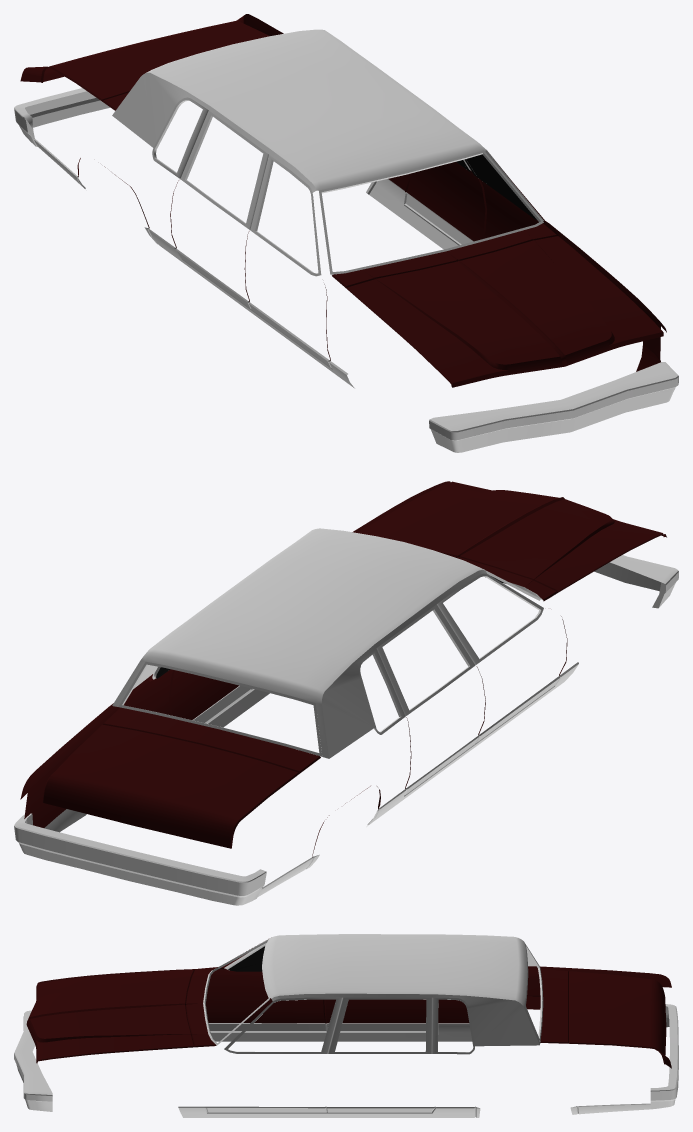
File: whiskey_statesman.fbx
The picture shows the model from 3 angles, top to bottom: view 1: azimuth 30°, elevation 25°; view 2: azimuth 150°, elevation 25°; view 3: azimuth 270°, elevation 25°; orthographic projection. The views are drawn at different scales.
Visible parts, largest first — view 1: Chrome, Hood_paintable, Trunk_paintable, RearDoors_paintable, Body_paintable, FrontDoors_paintable, FrontFenders_paintable, Windows, RearFenders_paintable; view 2: Chrome, Trunk_paintable, Hood_paintable, Body_paintable, RearFenders_paintable, RearDoors_paintable; view 3: Chrome, Hood_paintable, Trunk_paintable, FrontDoors_paintable, Body_paintable, RearDoors_paintable, RearFenders_paintable, Windows, FrontFenders_paintable.
Boxes of the visible parts, left/top/right/bottom form: Chrome: left=14, top=29, right=678, bottom=452; Hood_paintable: left=346, top=236, right=663, bottom=387; Trunk_paintable: left=42, top=20, right=269, bottom=100; RearDoors_paintable: left=170, top=162, right=485, bottom=247; Body_paintable: left=102, top=92, right=557, bottom=287; FrontDoors_paintable: left=244, top=178, right=554, bottom=301; FrontFenders_paintable: left=324, top=159, right=666, bottom=371; Windows: left=456, top=154, right=536, bottom=219; RearFenders_paintable: left=20, top=14, right=409, bottom=228; Chrome: left=14, top=528, right=678, bottom=905; Trunk_paintable: left=42, top=724, right=299, bottom=848; Hood_paintable: left=358, top=481, right=663, bottom=592; Body_paintable: left=103, top=554, right=557, bottom=773; RearFenders_paintable: left=20, top=669, right=411, bottom=856; RearDoors_paintable: left=171, top=666, right=485, bottom=734; Chrome: left=14, top=934, right=678, bottom=1117; Hood_paintable: left=26, top=969, right=194, bottom=1062; Trunk_paintable: left=569, top=971, right=666, bottom=1055; FrontDoors_paintable: left=206, top=968, right=325, bottom=1023; Body_paintable: left=186, top=968, right=568, bottom=1047; RearDoors_paintable: left=324, top=999, right=426, bottom=1023; RearFenders_paintable: left=438, top=966, right=671, bottom=1068; Windows: left=228, top=946, right=264, bottom=971; FrontFenders_paintable: left=37, top=949, right=249, bottom=1063.
Size of the model in its own units: 21.48 by 13.25 by 66.57.
